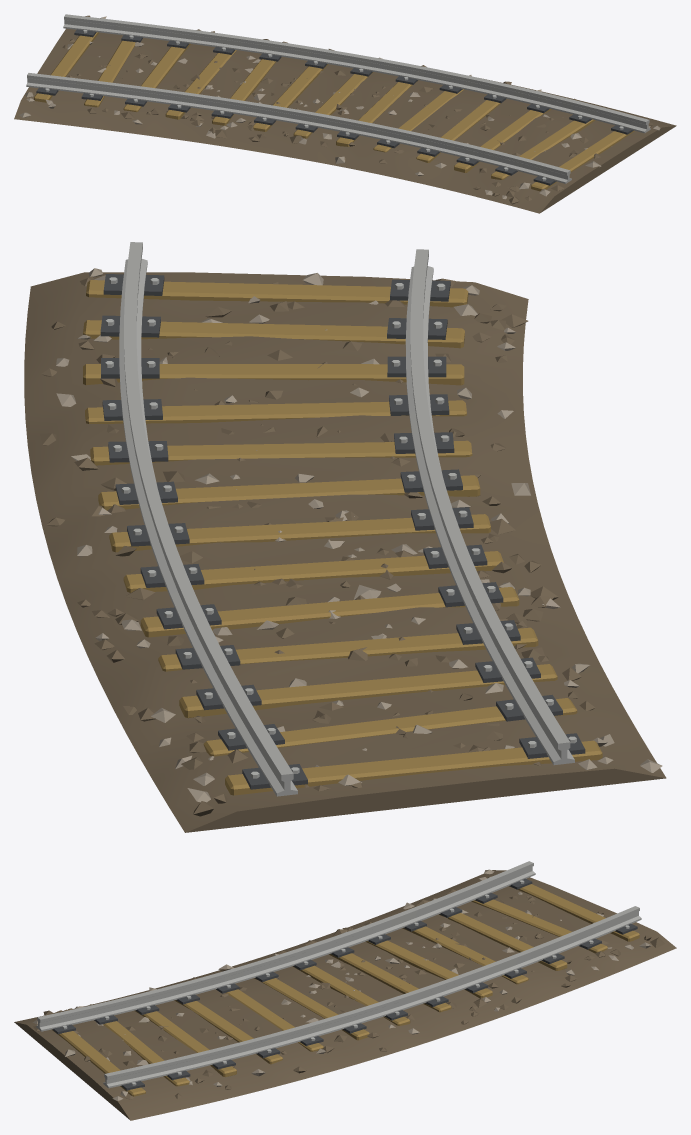
Rendered from curved-rail-b.glb.
3 renders of one model, top to bottom at view 1: azimuth 30°, elevation 25°; view 2: azimuth 150°, elevation 25°; view 3: azimuth 270°, elevation 25°, orthographic. The views are drawn at different scales.
Visible parts, largest first — view 1: body; view 2: body; view 3: body.
Part boxes in pixels (box(x1,y1,x2,y2)): body: box(14, 14, 676, 213); body: box(24, 242, 666, 832); body: box(14, 861, 676, 1120).
Size of the model in its own units: 4.63 by 0.2226 by 5.18.
